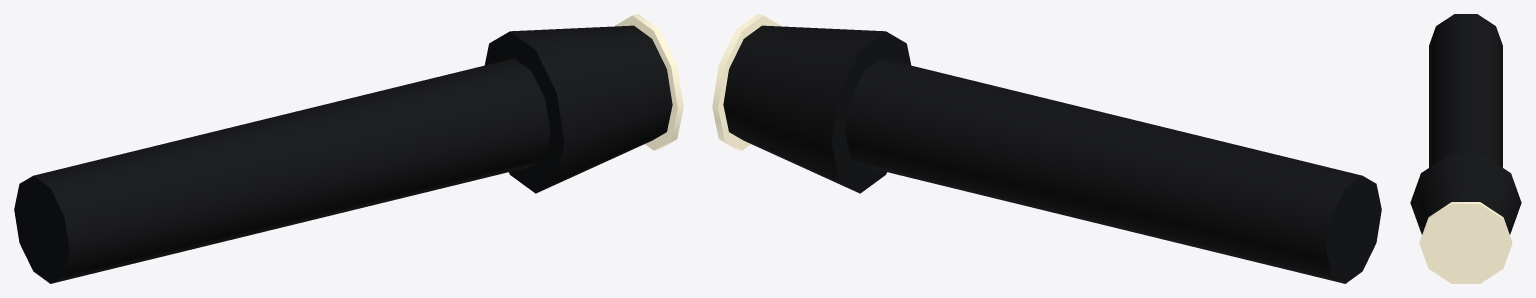
File: prop_torch.glb
3 renders of one model, left to right at view 1: azimuth 30°, elevation 25°; view 2: azimuth 150°, elevation 25°; view 3: azimuth 270°, elevation 25°, orthographic. The views are drawn at different scales.
Visible parts, largest first — view 1: prop_torch; view 2: prop_torch; view 3: prop_torch.
Boxes of the visible parts, x1,y1,x2,y2 form: prop_torch: (14, 14, 683, 283); prop_torch: (712, 14, 1381, 283); prop_torch: (1410, 14, 1521, 283).
Size of the model in its own units: 0.202 by 0.0457 by 0.048.
